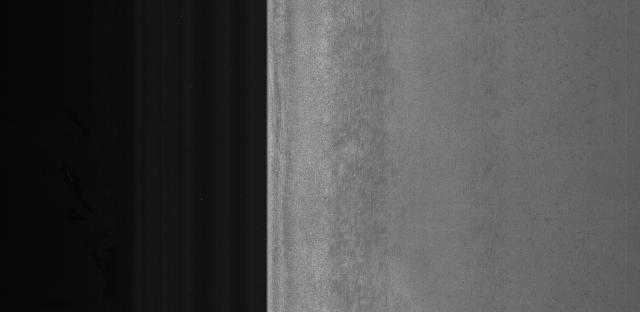silk_spot: (320, 46, 414, 282)
